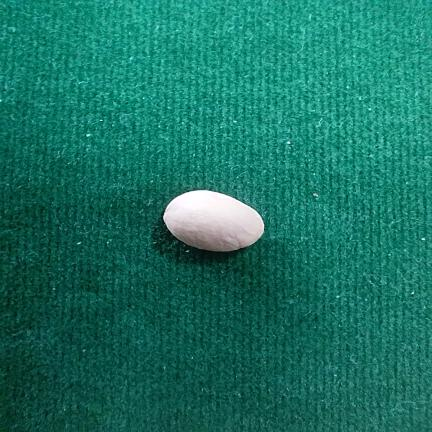husk: (163, 191, 264, 251)
